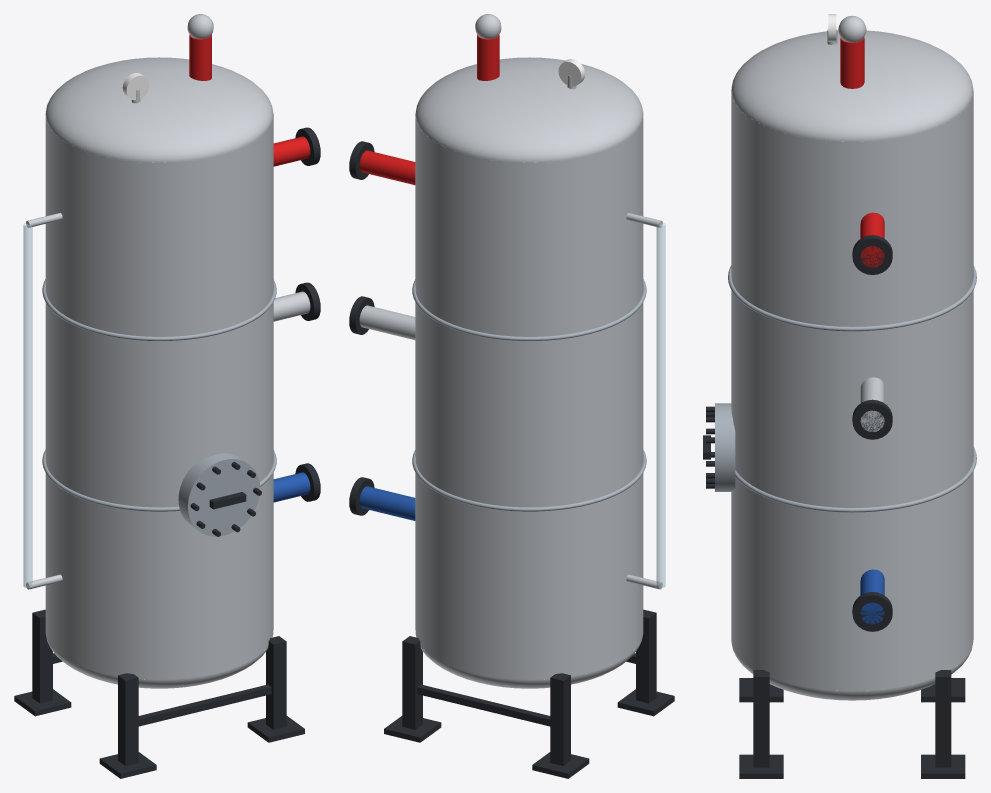
File: dikey-tank.glb
3 views of the same model, side by side, from view 1: azimuth 30°, elevation 25°; view 2: azimuth 150°, elevation 25°; view 3: azimuth 270°, elevation 25° (orthographic). The views are drawn at different scales.
Visible parts, largest first — view 1: Asset; view 2: Asset; view 3: Asset.
Boxes of the visible parts, <box> form: Asset: <box>14,14,320,778</box>; Asset: <box>349,14,674,778</box>; Asset: <box>703,14,976,778</box>.
Bounding box in the file's own units: 1.8 × 4.05 × 1.36.
